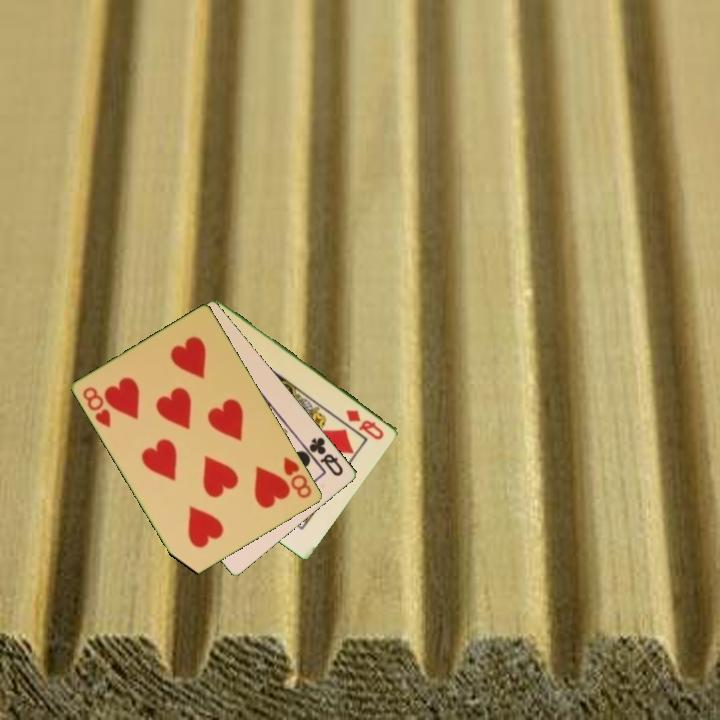8h: (280, 453, 315, 501), (79, 383, 114, 431)
Qc: (300, 433, 347, 479)
Qd: (342, 406, 387, 443)
